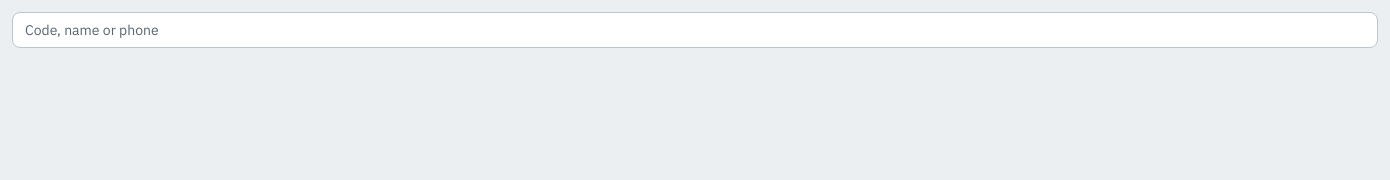
Test case: the customer and supplier search from the keyboard (W2-13) › closes on Esc without picking
The image size is (1390, 180).
In the dropdown named "Customer": (695, 30) [12,12,1378,48], type "khan"
Wait 300 ms
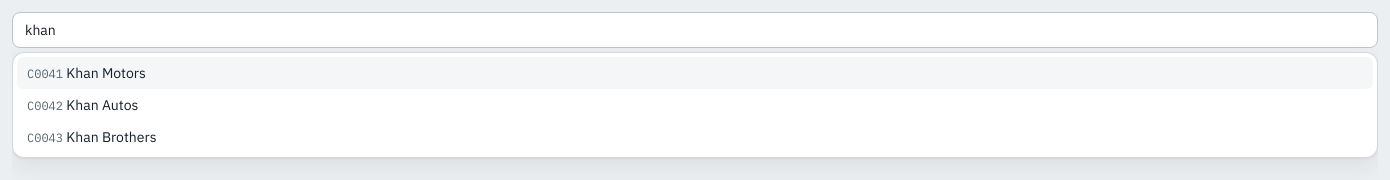
Check: the number of options is 3, box [17,57,1373,89]; [27,96,138,114]; [27,128,156,146]
Press Escape in the dropdown named "Customer", box [12,12,1378,48]
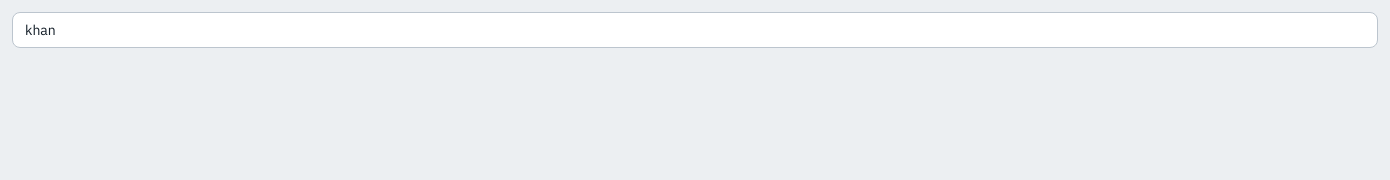
Check: the list is gone
